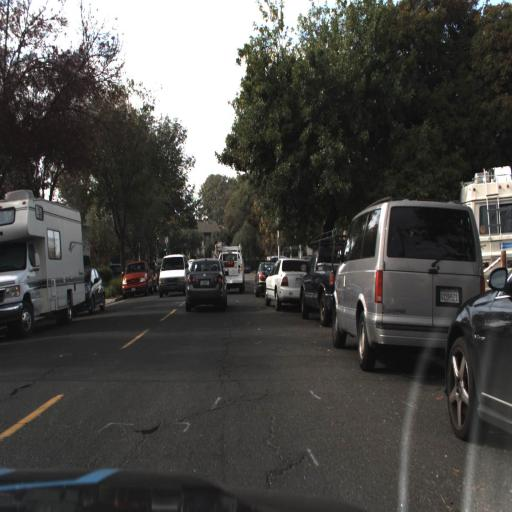car: (330, 195, 484, 372), (0, 189, 87, 335), (297, 230, 340, 321), (262, 253, 309, 309), (185, 256, 228, 308), (213, 239, 246, 305), (116, 260, 154, 301), (158, 252, 191, 297), (83, 263, 108, 315), (82, 264, 106, 316), (253, 258, 270, 297)
truck: (0, 193, 85, 328), (215, 249, 246, 293)
